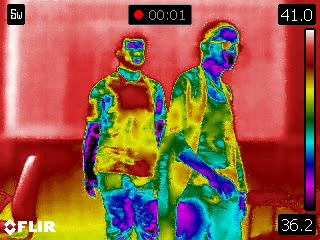human: (164, 21, 249, 240), (84, 30, 168, 240)
